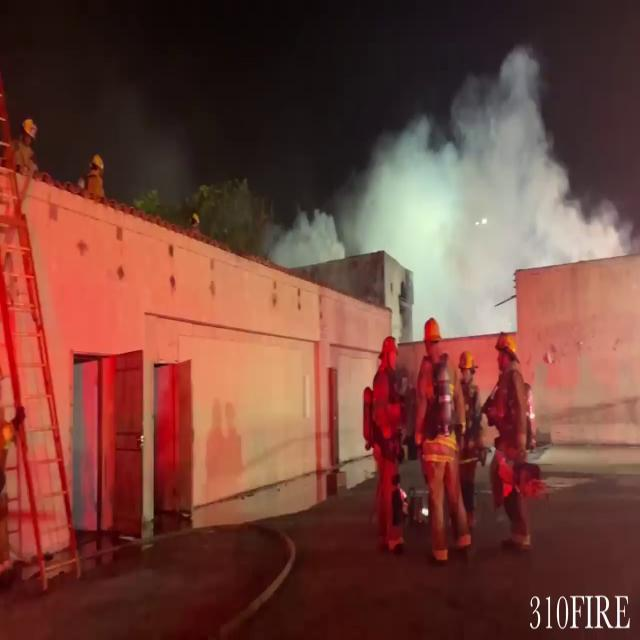Smoke: (360, 39, 632, 309)
